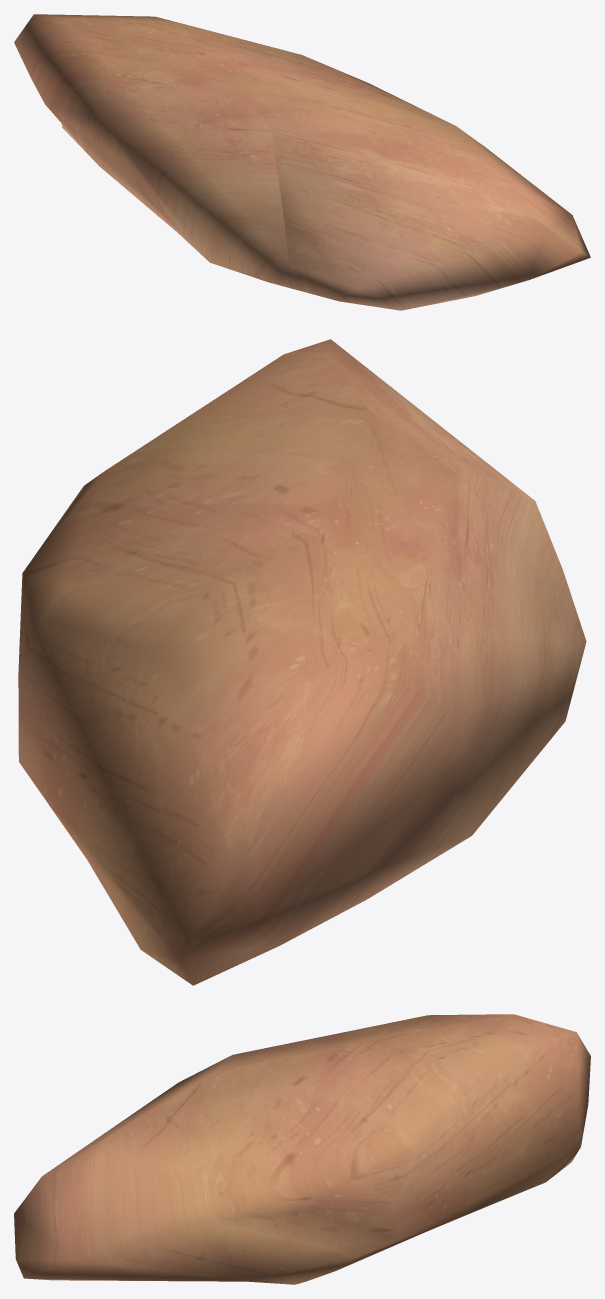
Rendered from rock_1_001.fbx.
3 renders of one model, top to bottom at view 1: azimuth 30°, elevation 25°; view 2: azimuth 150°, elevation 25°; view 3: azimuth 270°, elevation 25°, orthographic. The views are drawn at different scales.
Visible parts, largest first — view 1: rock 1.001; view 2: rock 1.001; view 3: rock 1.001.
Boxes of the visible parts, x1,y1,x2,y2 form: rock 1.001: (14,14,590,310); rock 1.001: (18,339,586,985); rock 1.001: (14,1014,590,1284).
Size of the model in its own units: 1075 by 633 by 1721.
